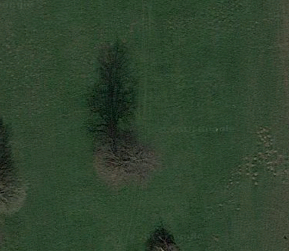tree: (84, 138, 166, 193)
